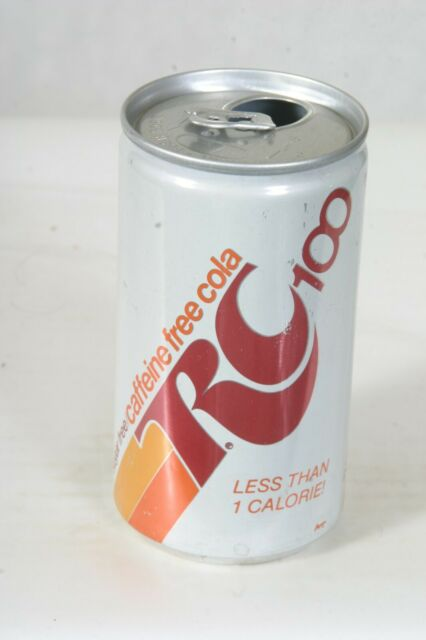Can: (102, 69, 367, 571)
